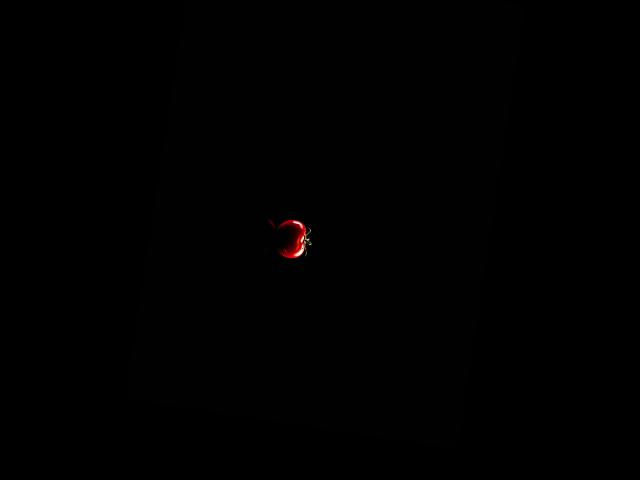tomato: (273, 218, 309, 260)
